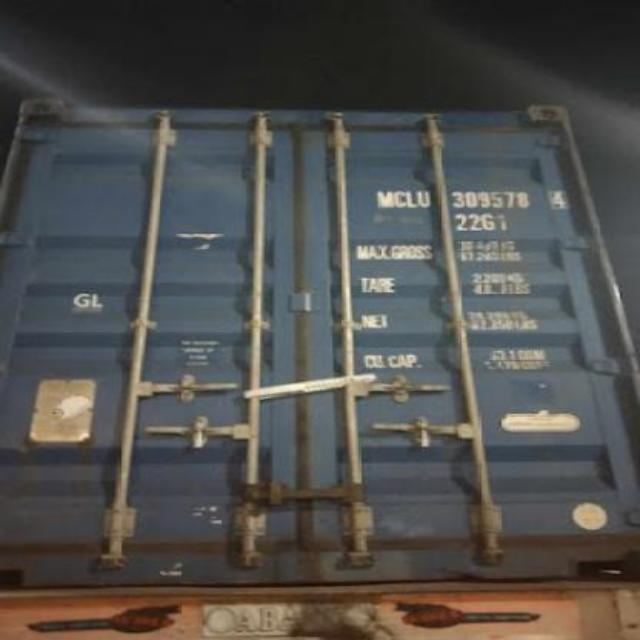0: (466, 191, 478, 207)
3: (452, 191, 464, 209)
4: (548, 191, 566, 207)
5: (490, 191, 506, 207)
7: (504, 191, 518, 207)
8: (518, 191, 530, 209)
9: (478, 191, 492, 209)
C: (394, 191, 408, 207)
L: (408, 189, 418, 207)
M: (376, 189, 396, 207)
U: (418, 191, 432, 207)
